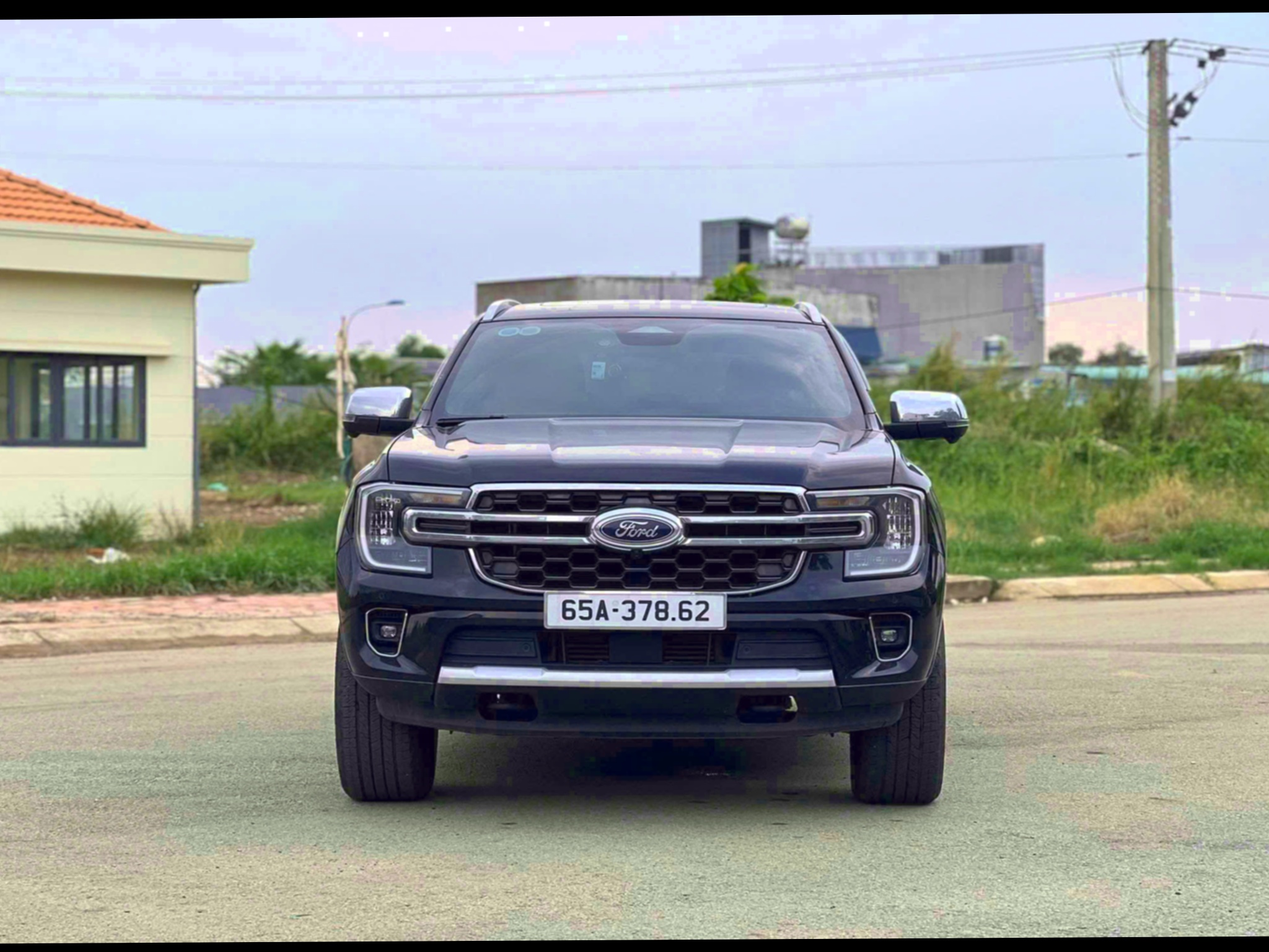Bien-so: (545, 587, 731, 633)
